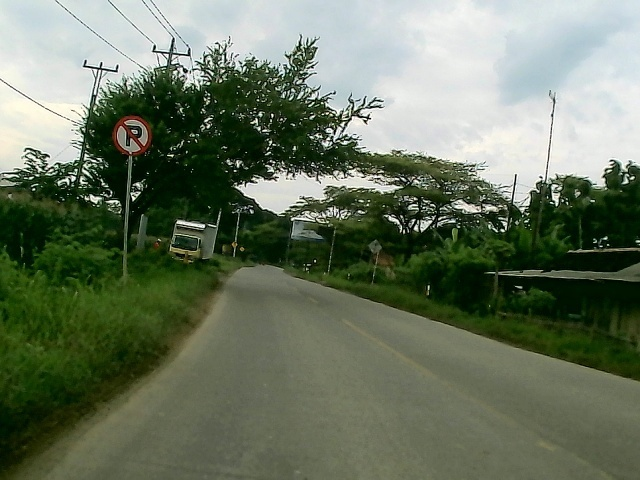Dilarang parkir: (109, 114, 155, 158)
